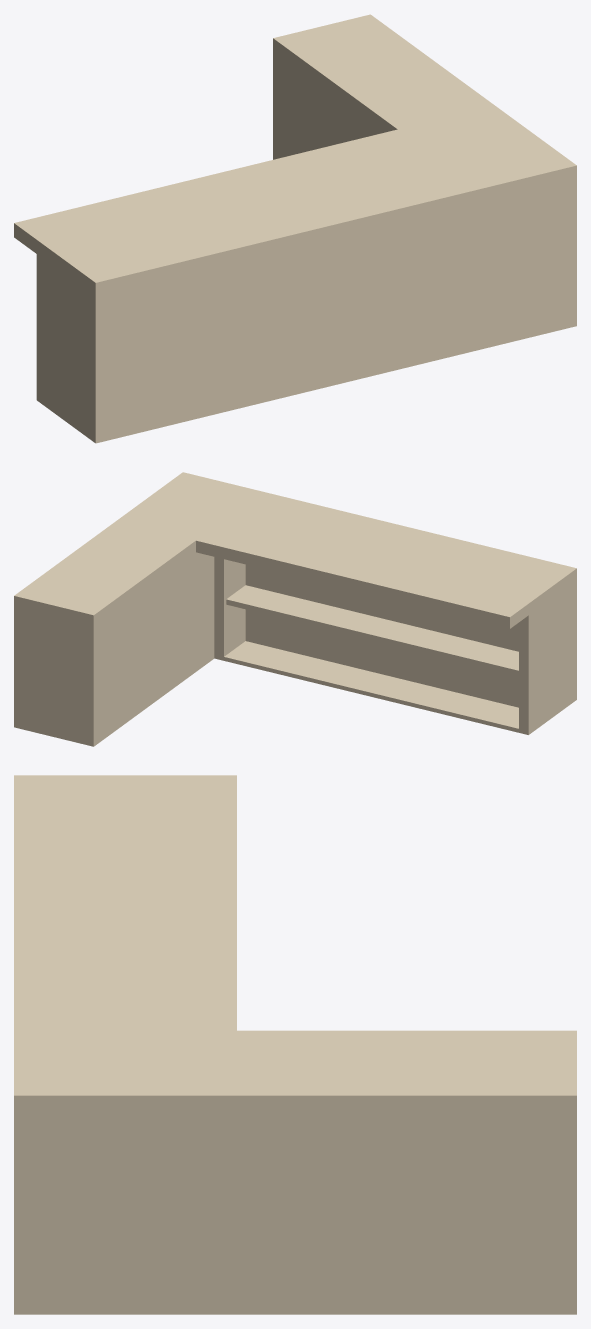
Rendered from storecounter.fbx.
The picture shows the model from 3 angles, top to bottom: view 1: azimuth 30°, elevation 25°; view 2: azimuth 150°, elevation 25°; view 3: azimuth 270°, elevation 25°; orthographic projection. The views are drawn at different scales.
Visible parts, largest first — view 1: Store Counter; view 2: Store Counter; view 3: Store Counter.
Part boxes in pixels (left/top/right/bottom): Store Counter: left=14, top=14, right=576, bottom=443; Store Counter: left=14, top=472, right=576, bottom=746; Store Counter: left=14, top=775, right=576, bottom=1314.
Bounding box in the file's own units: 752 × 240 × 559.
